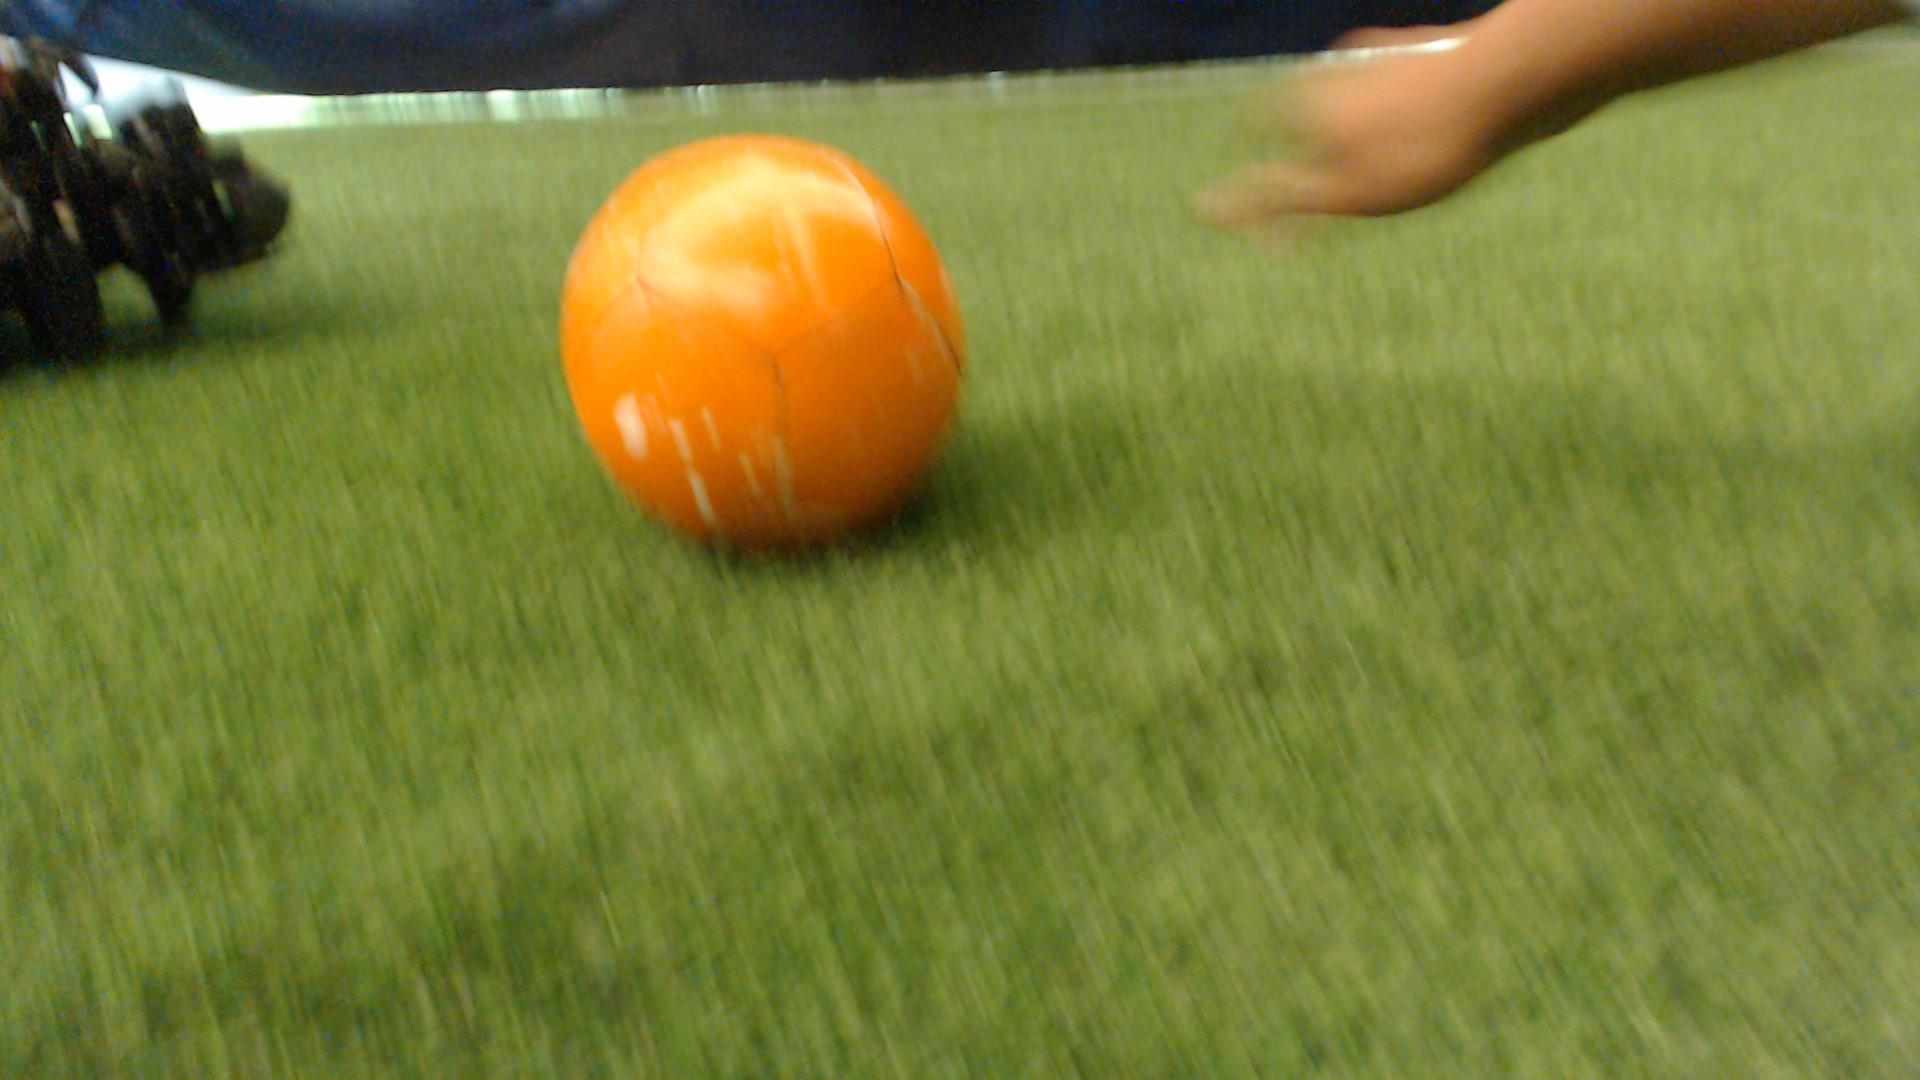bola: (538, 112, 998, 575)
